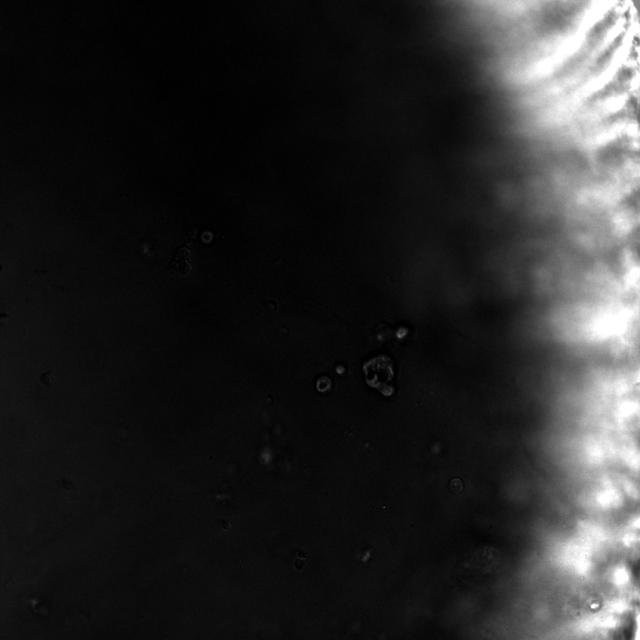organoid: (362, 353, 396, 396), (169, 245, 192, 275), (314, 374, 334, 395), (448, 477, 464, 494)
